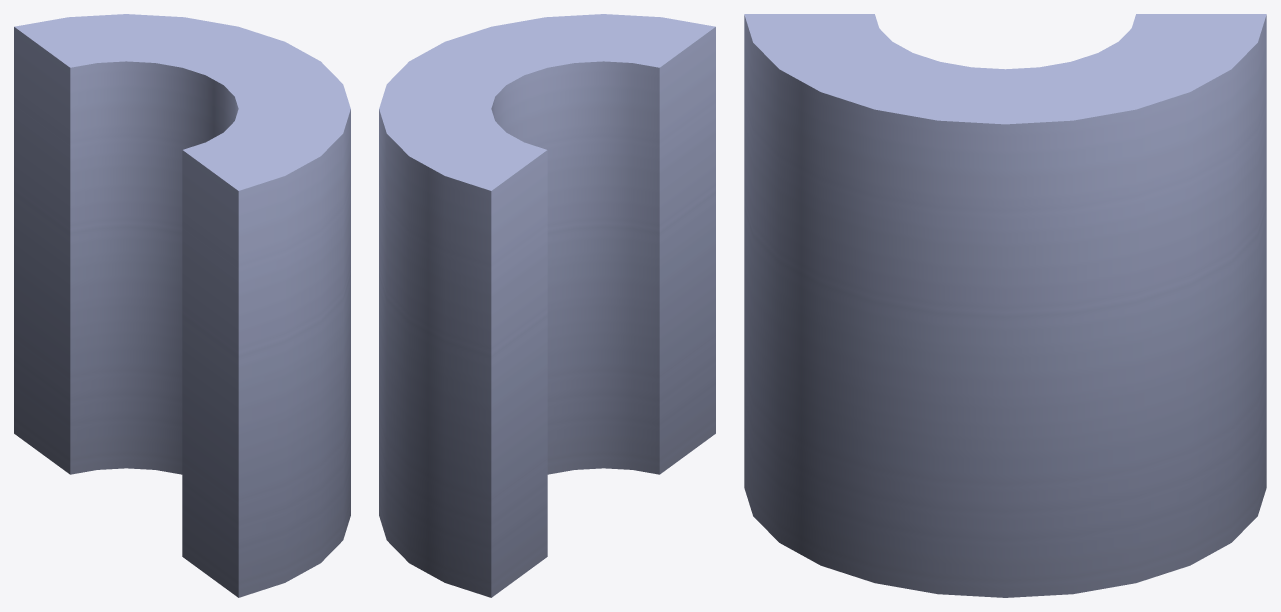
File: shape-hollow-cylinder-half-detailed.fbx
3 views of the same model, side by side, from view 1: azimuth 30°, elevation 25°; view 2: azimuth 150°, elevation 25°; view 3: azimuth 270°, elevation 25° (orthographic). The views are drawn at different scales.
Visible parts, largest first — view 1: shape-hollow-cylinder-half-detailed; view 2: shape-hollow-cylinder-half-detailed; view 3: shape-hollow-cylinder-half-detailed.
Part boxes in pixels (bbox=[...]): shape-hollow-cylinder-half-detailed: bbox=[14, 14, 350, 597]; shape-hollow-cylinder-half-detailed: bbox=[379, 14, 715, 597]; shape-hollow-cylinder-half-detailed: bbox=[744, 14, 1266, 597].
Size of the model in its own units: 50 by 100 by 100.
